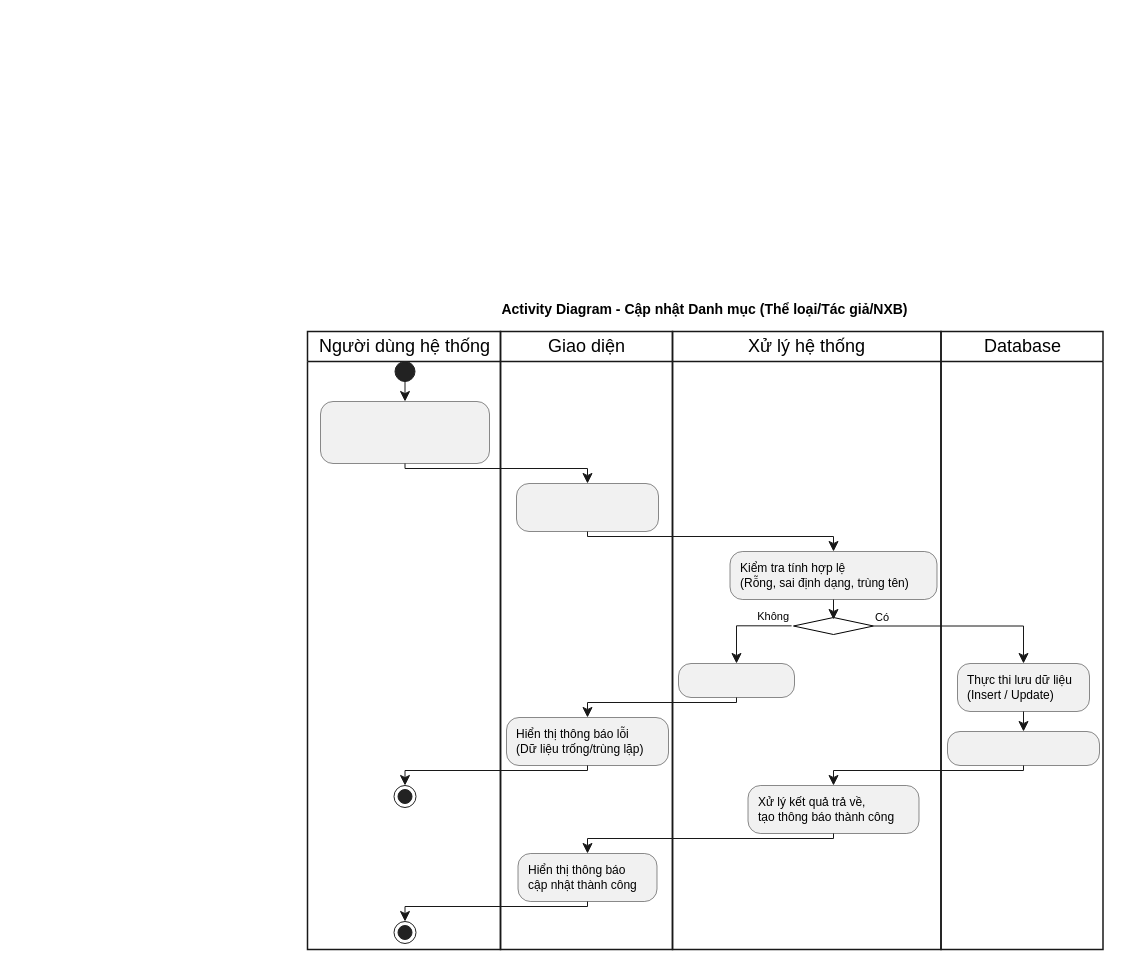
Image size: 1121x967. Some labels were removed from this diagram. The centre of each missing label's shape, as x and y in pixels:
Gửi yêu cầu cập nhật dữ liệu: [587,507]
Nhập thông tin Danh mục (Thể loại/Tác giả/NXB) và nhấn Lưu: [404,432]
Trả về kết quả thực thi: [1023,748]
Tạo cảnh báo lỗi: [736,680]
